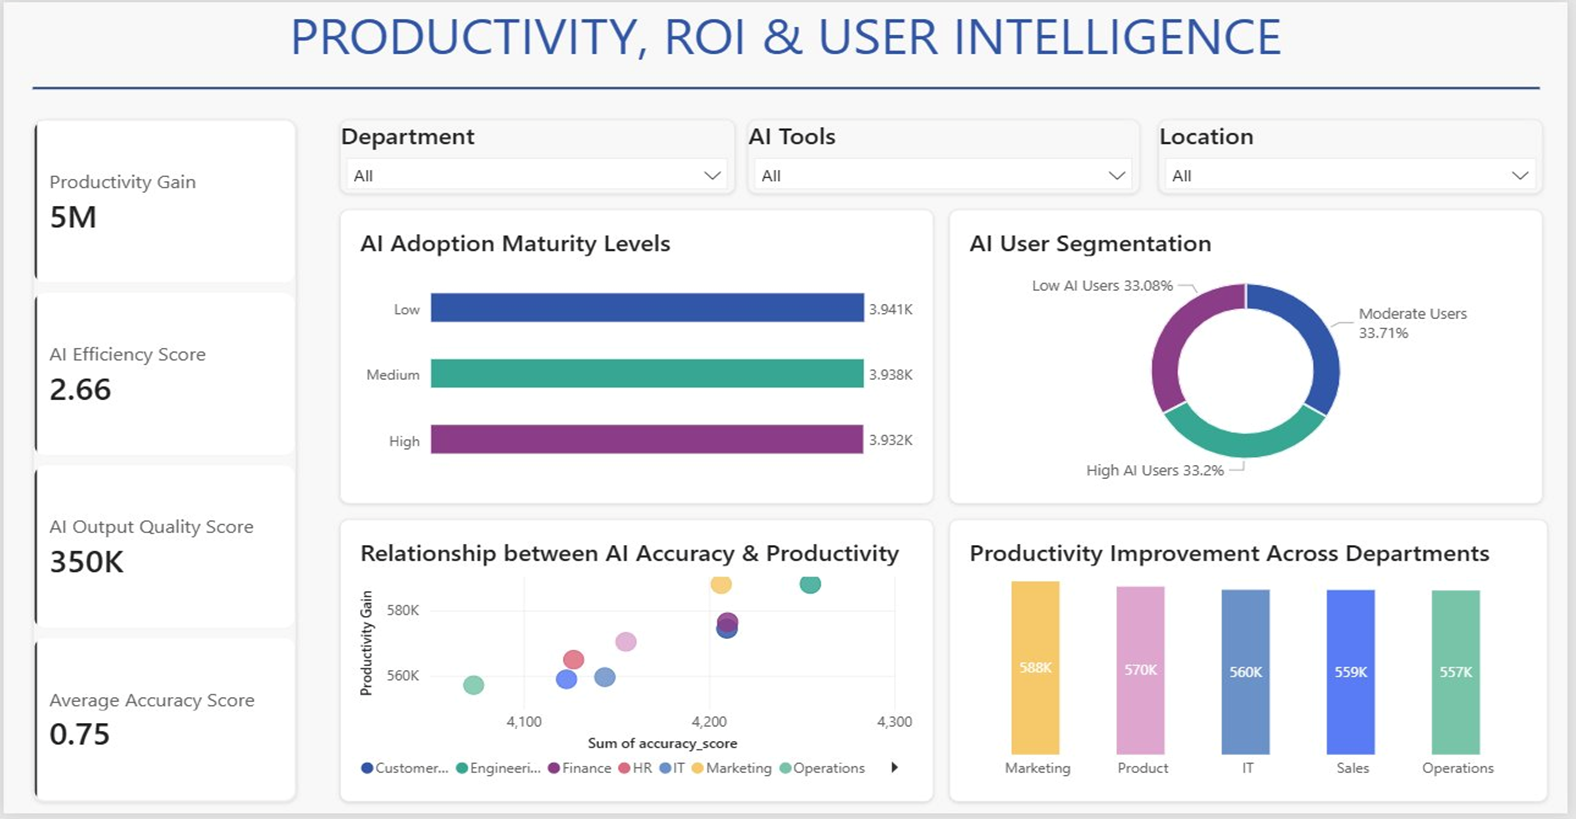

Layout of this report page (visuals, bound fields, positions):
{"tool":"powerbi","page":{"name":"Page 2","canvas":[1280,720],"ordinal":1},"visuals":[{"type":"columnChart","title":"Productivity Improvement Across Departments","fields":{"Y":["ai_usage_dataset_new30.Productivity Gain"],"Category":["ai_usage_dataset_new30.department"],"Series":["ai_usage_dataset_new30.department"]},"box":[773.8,458.8,490,251.2],"z":0},{"type":"scatterChart","title":"Relationship between AI Accuracy & Productivity","fields":{"X":["Sum(ai_usage_dataset_new30.accuracy_score)"],"Y":["ai_usage_dataset_new30.Productivity Gain"],"Series":["ai_usage_dataset_new30.department"],"Size":["Sum(ai_usage_dataset_new30.prompts_used)"]},"box":[275,458.8,486.2,251.2],"z":1000},{"type":"donutChart","title":"AI User Segmentation","fields":{"Category":["ai_usage_dataset_new30.user_segment"],"Y":["Count(ai_usage_dataset_new30.user_id)"]},"box":[773.8,183.8,486.2,261.2],"z":2000},{"type":"barChart","title":"AI Adoption Maturity Levels","fields":{"Category":["ai_usage_dataset_new30.ai_adoption_level"],"Y":["Count(ai_usage_dataset_new30.user_id)"],"Series":["ai_usage_dataset_new30.ai_adoption_level"]},"box":[275,183.8,486.2,261.2],"z":3000},{"type":"textbox","box":[0,0,1280,86],"z":4000},{"type":"cardVisual","fields":{"Data":["ai_usage_dataset_new30.Productivity Gain","ai_usage_dataset_new30.Efficiency Score","Sum(ai_usage_dataset_new30.output_quality_score)","Avg(ai_usage_dataset_new30.accuracy_score)"]},"box":[23.8,103.8,216.2,606.2],"z":5000},{"type":"slicer","title":"Department","fields":{"Values":["ai_usage_dataset_new30.department"]},"box":[275,103.8,323.8,66.2],"z":6000},{"type":"slicer","title":"AI Tools","fields":{"Values":["ai_usage_dataset_new30.tool_used"]},"box":[608.8,103.8,321.2,66.2],"z":7000},{"type":"slicer","title":"Location","fields":{"Values":["ai_usage_dataset_new30.location"]},"box":[945,103.8,315,66.2],"z":8000},{"type":"shape","box":[23.8,66.2,1233.8,20],"z":9000}]}

Visuals, with their boxes on the page's 1280x720 design canvas (x1, y1, x2, y2). These are canvas units, not pixel positions in the 1576x819 screenshot, which may show the page scaled, cropped or inside an application window:
"Productivity Improvement Across Departments" columnChart: crop(774, 459, 1264, 710)
"Relationship between AI Accuracy & Productivity" scatterChart: crop(275, 459, 761, 710)
"AI User Segmentation" donutChart: crop(774, 184, 1260, 445)
"AI Adoption Maturity Levels" barChart: crop(275, 184, 761, 445)
textbox: crop(0, 0, 1280, 86)
cardVisual - ai_usage_dataset_new30.Productivity Gain x ai_usage_dataset_new30.Efficiency Score: crop(24, 104, 240, 710)
"Department" slicer: crop(275, 104, 599, 170)
"AI Tools" slicer: crop(609, 104, 930, 170)
"Location" slicer: crop(945, 104, 1260, 170)
shape: crop(24, 66, 1258, 86)
